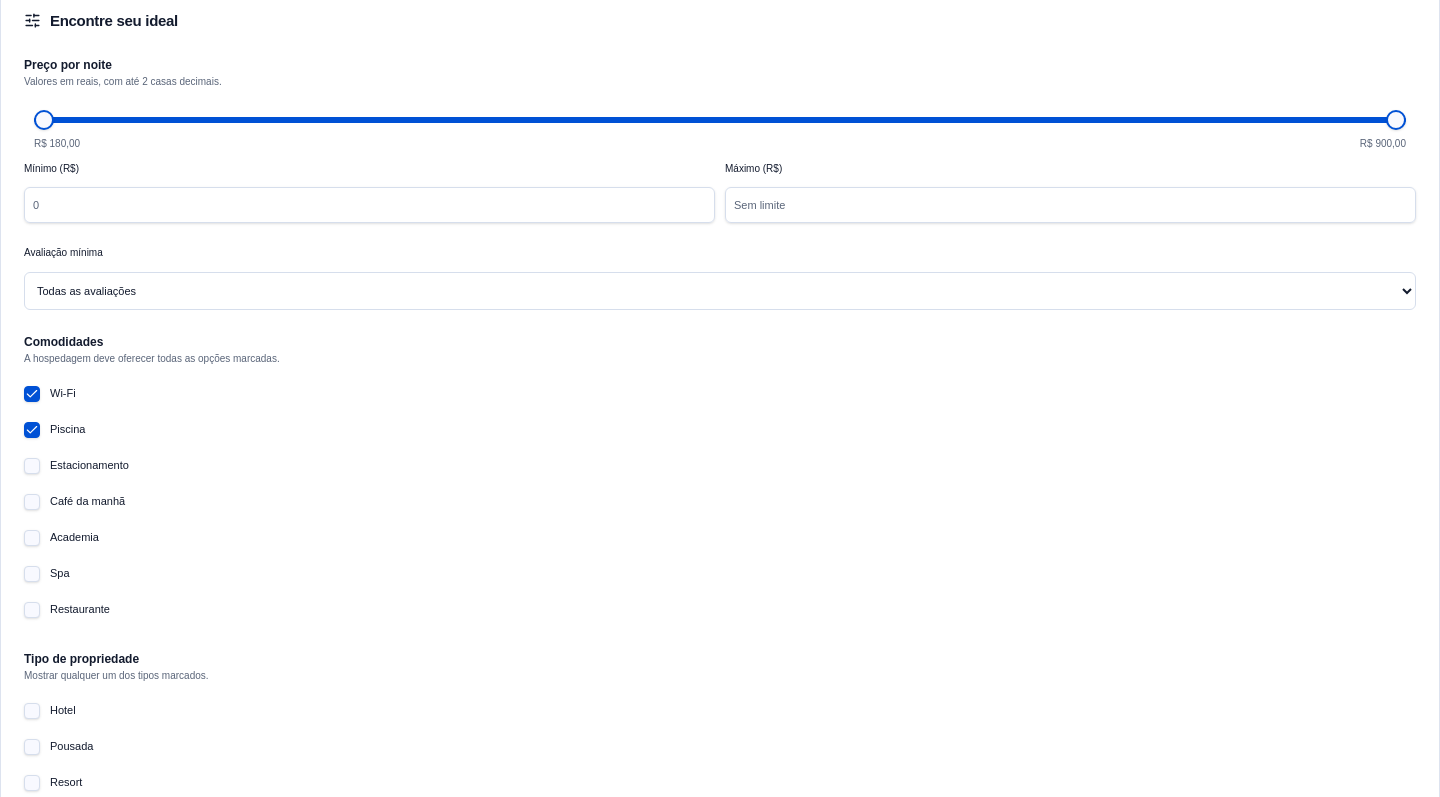
Test: remove o aviso pendente ao reaplicar a mesma seleção em outra ordem
The image size is (1440, 797).
Click the checkbox named "Wi-Fi" next to "Wi-Fi" at {"x": 32, "y": 394}, box [24,386,40,402]
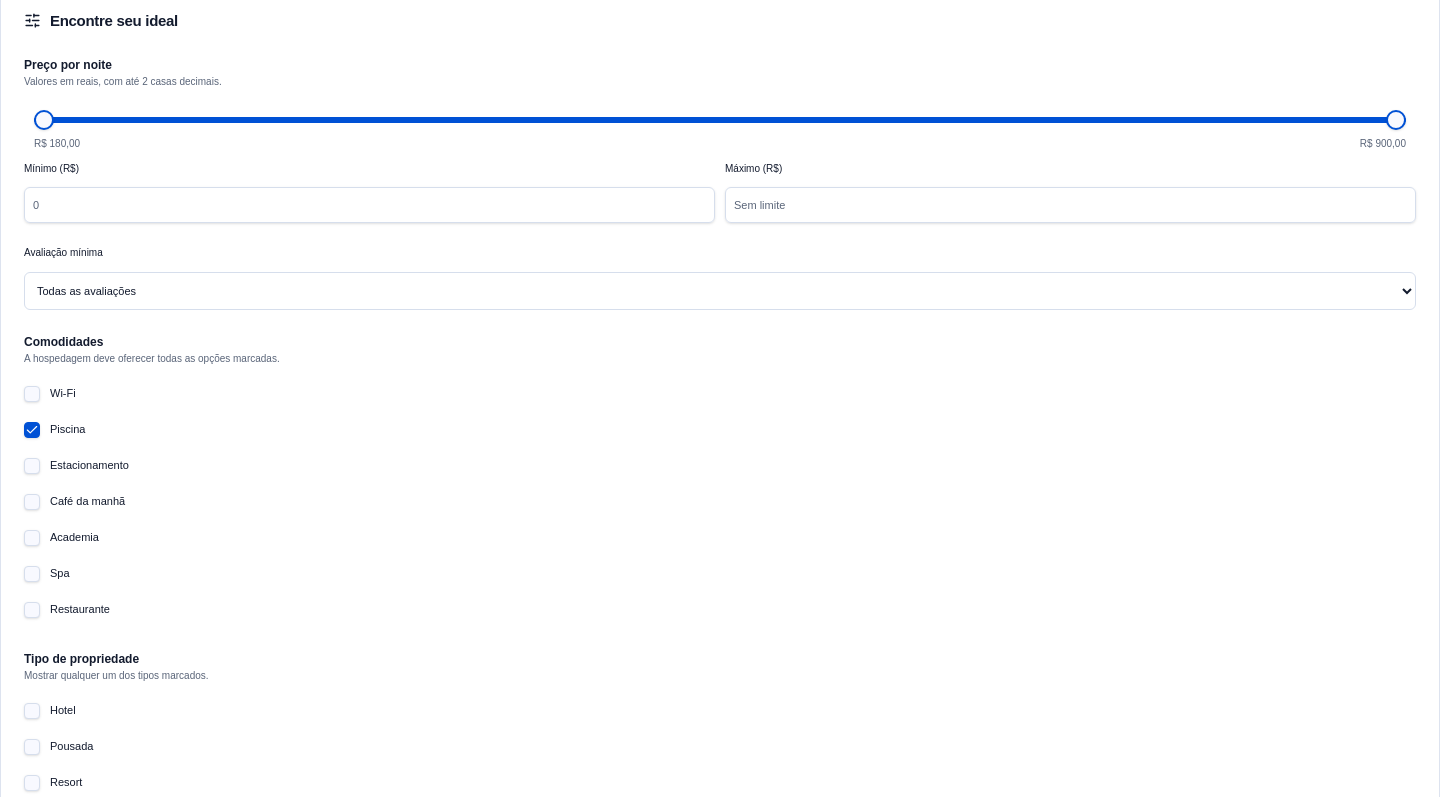
Click the checkbox named "Wi-Fi" next to "Wi-Fi" at {"x": 32, "y": 394}, box [24,386,40,402]
(page scrolled)
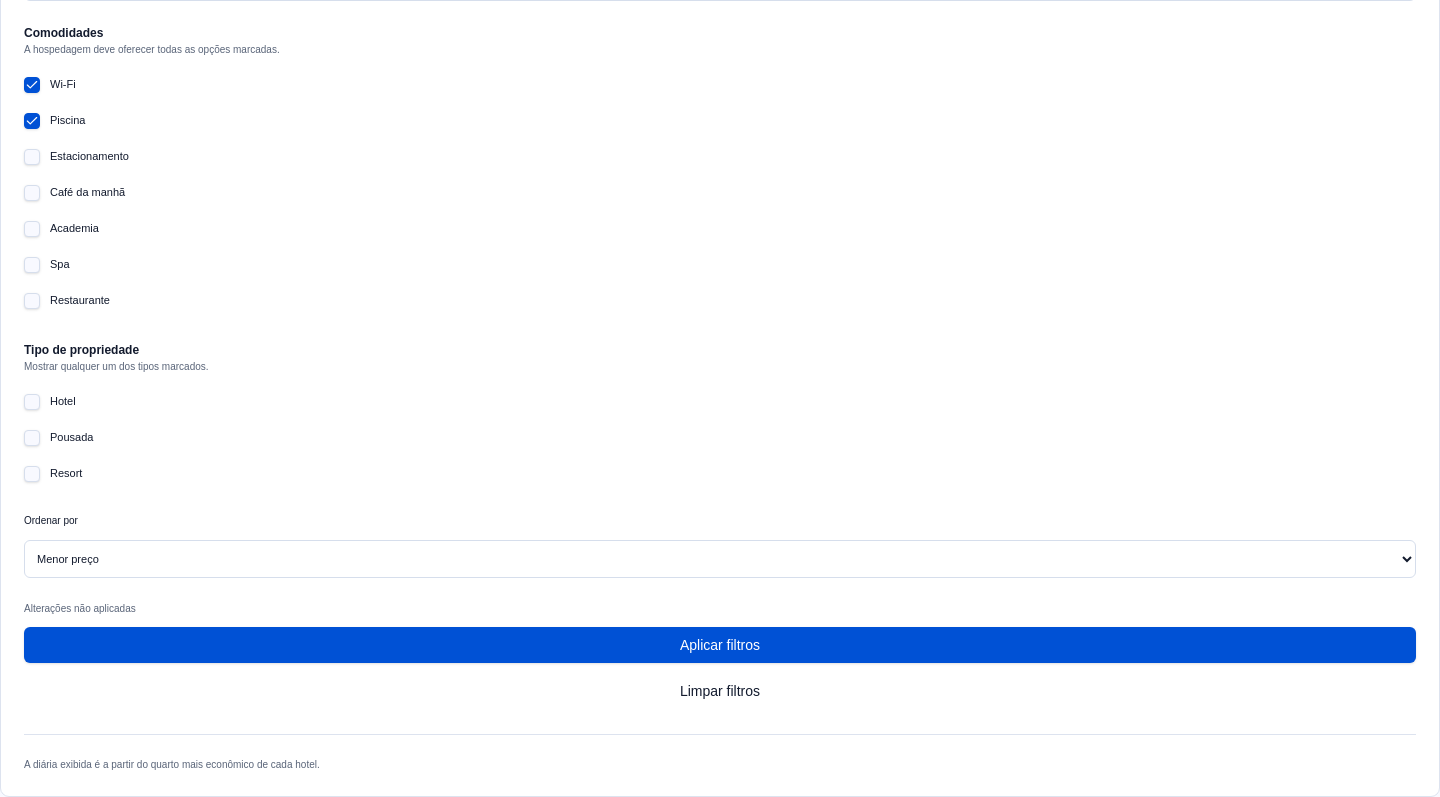
Click the button "Aplicar filtros" at {"x": 720, "y": 645}, box [24,627,1416,663]
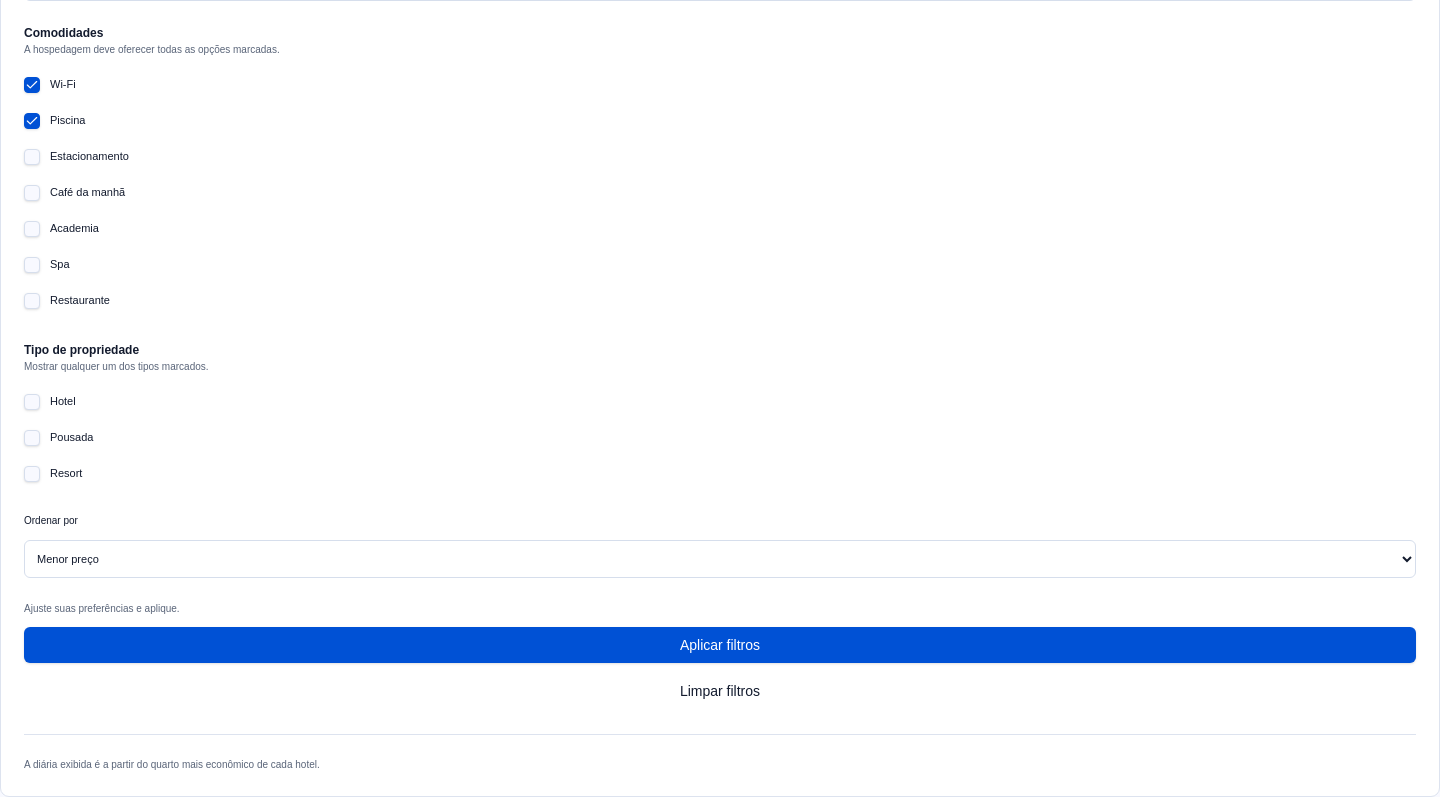
Expected: the text "Alterações não aplicadas" is gone
